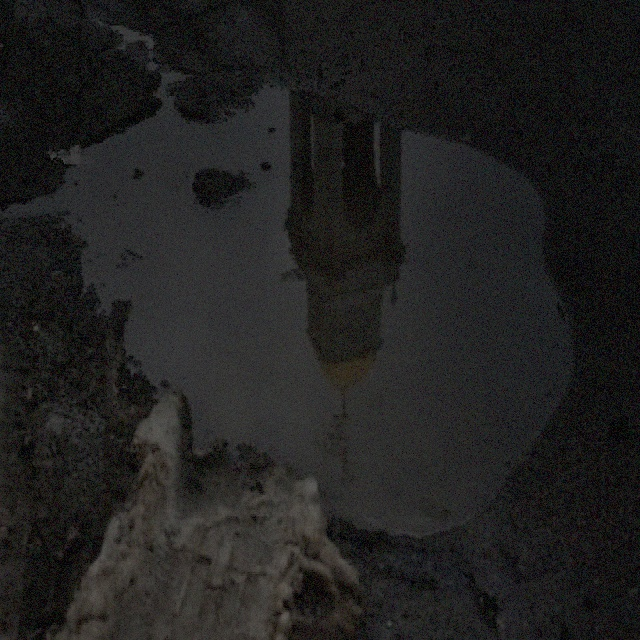pothole: (22, 70, 576, 538)
